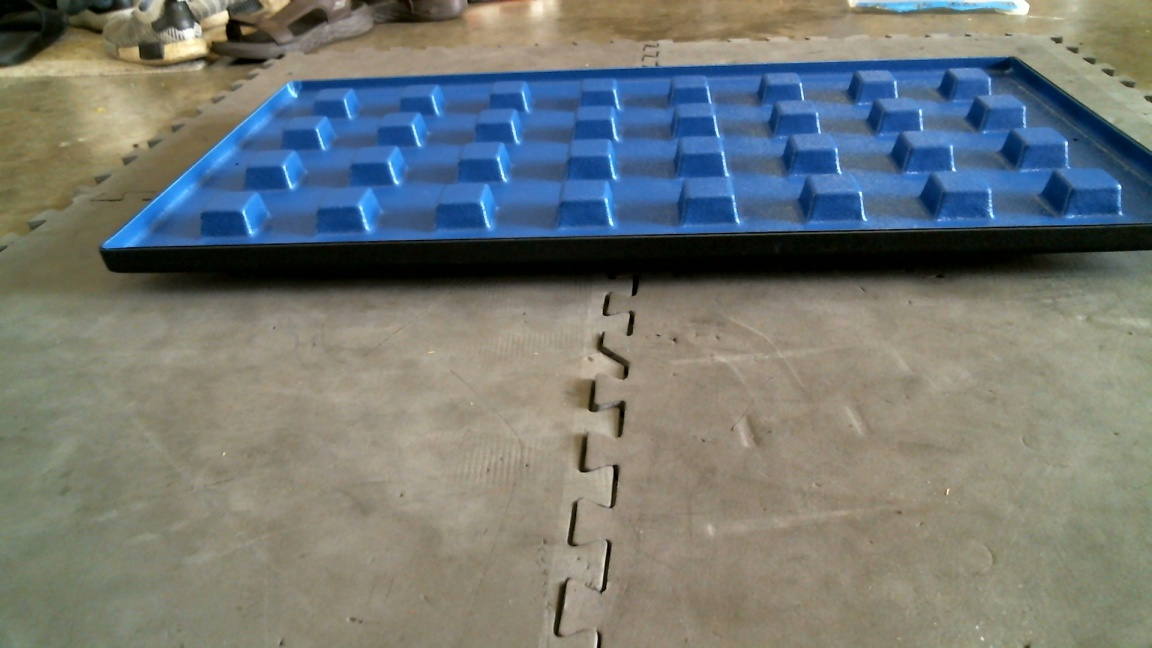blue_foundation: (115, 54, 1152, 272)
